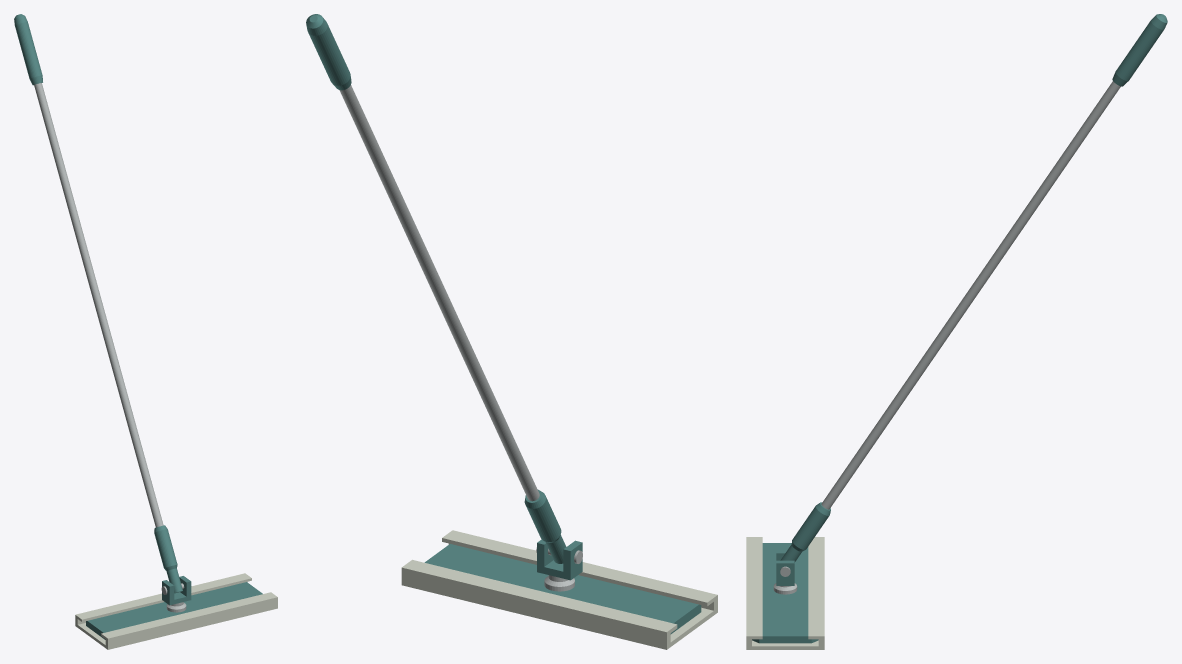
The picture shows the model from 3 angles, left to right: view 1: azimuth 30°, elevation 25°; view 2: azimuth 150°, elevation 25°; view 3: azimuth 270°, elevation 25°; orthographic projection. The views are drawn at different scales.
Parts seen in each view (by area): view 1: WholeThickUndersideClothWithBothFoldedLongEdges, WholeFullLengthStraightShaft, WholeBroadChamferedFlatHeadPlate, WholeRoundedUpperHandGrip, WholeInclinedNeckSocket, WholeOpenTwoCheekTiltFork; view 2: WholeThickUndersideClothWithBothFoldedLongEdges, WholeBroadChamferedFlatHeadPlate, WholeFullLengthStraightShaft, WholeRoundedUpperHandGrip, WholeInclinedNeckSocket, WholeOpenTwoCheekTiltFork; view 3: WholeFullLengthStraightShaft, WholeThickUndersideClothWithBothFoldedLongEdges, WholeBroadChamferedFlatHeadPlate, WholeRoundedUpperHandGrip, WholeInclinedNeckSocket.
Boxes of the visible parts, <box> form: WholeThickUndersideClothWithBothFoldedLongEdges: <box>75,573,277,649</box>; WholeFullLengthStraightShaft: <box>34,83,163,527</box>; WholeBroadChamferedFlatHeadPlate: <box>86,582,262,639</box>; WholeRoundedUpperHandGrip: <box>14,14,42,85</box>; WholeInclinedNeckSocket: <box>154,525,182,593</box>; WholeOpenTwoCheekTiltFork: <box>162,576,191,605</box>; WholeThickUndersideClothWithBothFoldedLongEdges: <box>401,530,717,649</box>; WholeBroadChamferedFlatHeadPlate: <box>424,544,701,634</box>; WholeFullLengthStraightShaft: <box>339,85,539,501</box>; WholeRoundedUpperHandGrip: <box>306,14,351,90</box>; WholeInclinedNeckSocket: <box>524,489,566,563</box>; WholeOpenTwoCheekTiltFork: <box>537,539,582,580</box>; WholeFullLengthStraightShaft: <box>821,81,1120,509</box>; WholeThickUndersideClothWithBothFoldedLongEdges: <box>746,537,824,649</box>; WholeBroadChamferedFlatHeadPlate: <box>752,543,818,643</box>; WholeRoundedUpperHandGrip: <box>1112,14,1167,86</box>; WholeInclinedNeckSocket: <box>780,502,830,562</box>.
Size of the model in its own units: 0.36 by 0.9887 by 0.6449.
